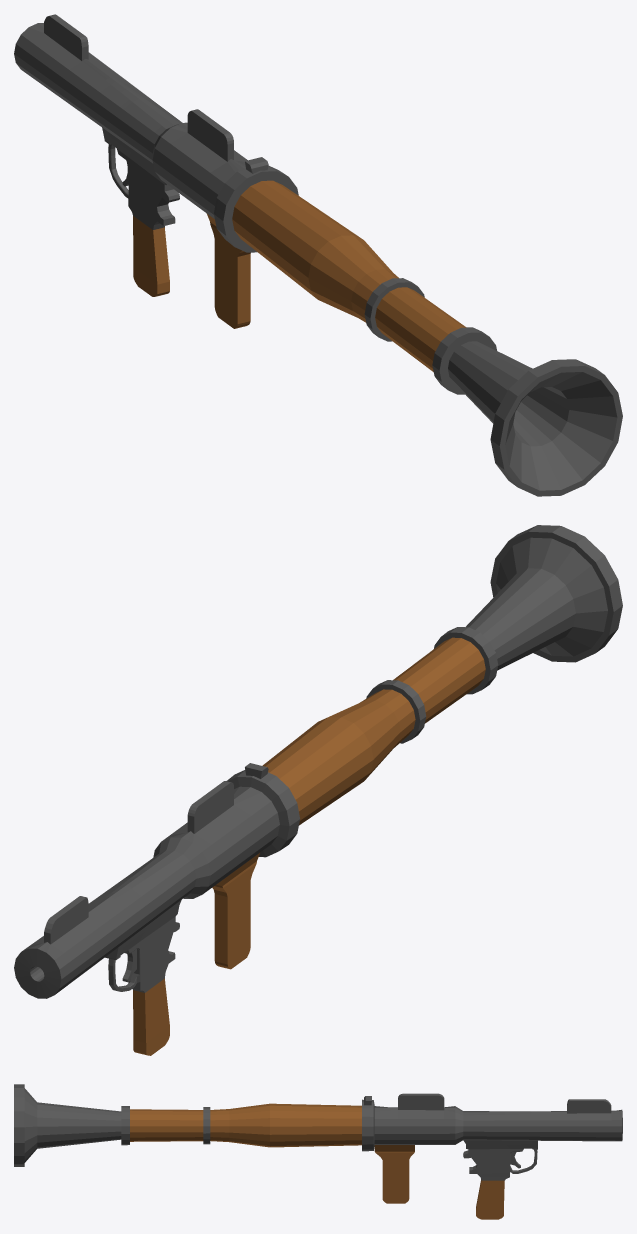
The model's file is Bazooka unloaded.fbx.
3 renders of one model, top to bottom at view 1: azimuth 30°, elevation 25°; view 2: azimuth 150°, elevation 25°; view 3: azimuth 270°, elevation 25°, orthographic. The views are drawn at different scales.
Visible parts, largest first — view 1: Cylinder.003; view 2: Cylinder.003; view 3: Cylinder.003.
Boxes of the visible parts, bbox=[...] form: Cylinder.003: bbox=[14, 14, 622, 496]; Cylinder.003: bbox=[14, 525, 622, 1055]; Cylinder.003: bbox=[14, 1084, 622, 1219].
Size of the model in its own units: 92.4 by 160 by 680.
